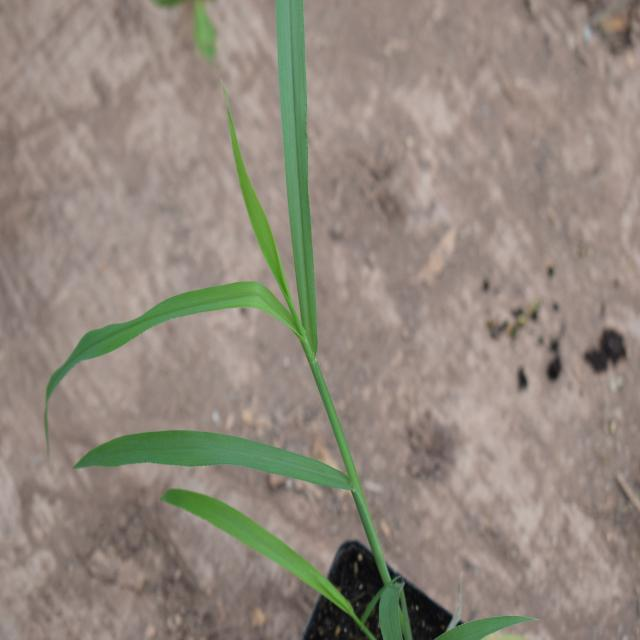crabgrass: (40, 25, 395, 592)
